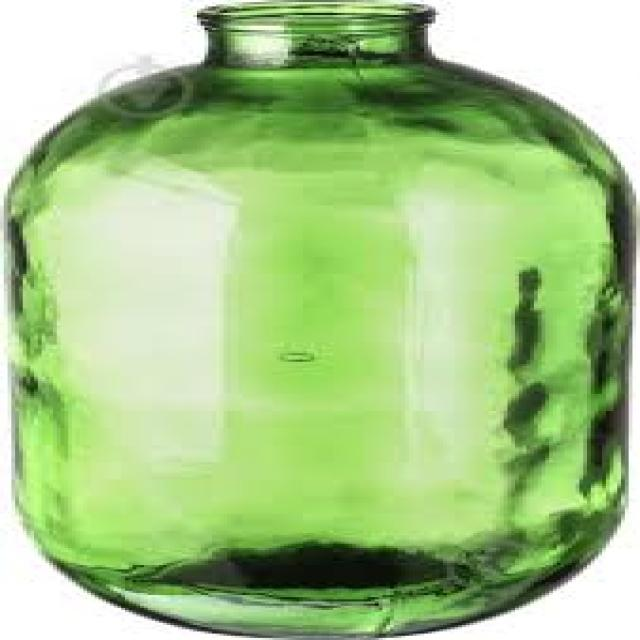glass: (4, 0, 636, 638)
